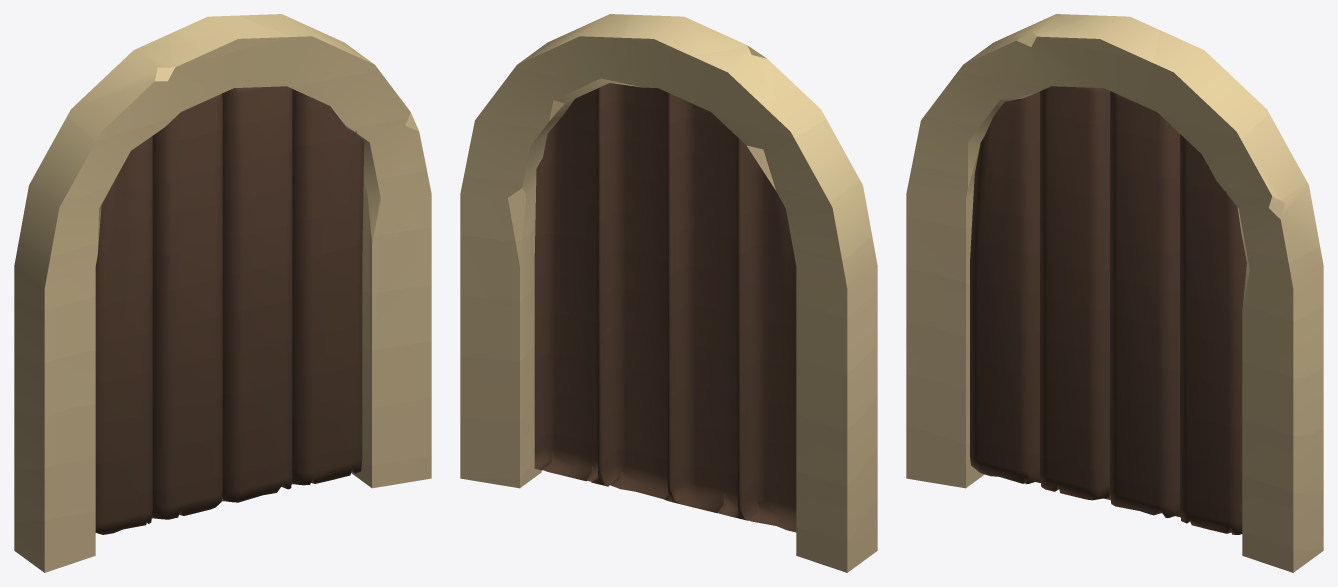
Rendered from Door.fbx.
The picture shows the model from 3 angles, left to right: view 1: azimuth 30°, elevation 25°; view 2: azimuth 150°, elevation 25°; view 3: azimuth 330°, elevation 25°; orthographic projection.
Parts seen in each view (by area): view 1: Door.001; view 2: Door.001; view 3: Door.001.
Boxes of the visible parts, left/top/right/bottom form: Door.001: left=14, top=14, right=431, bottom=572; Door.001: left=460, top=14, right=877, bottom=572; Door.001: left=906, top=14, right=1323, bottom=572.
Bounding box in the file's own units: 148 × 178 × 20.16.
Materials: 1 (1 with a texture image).
